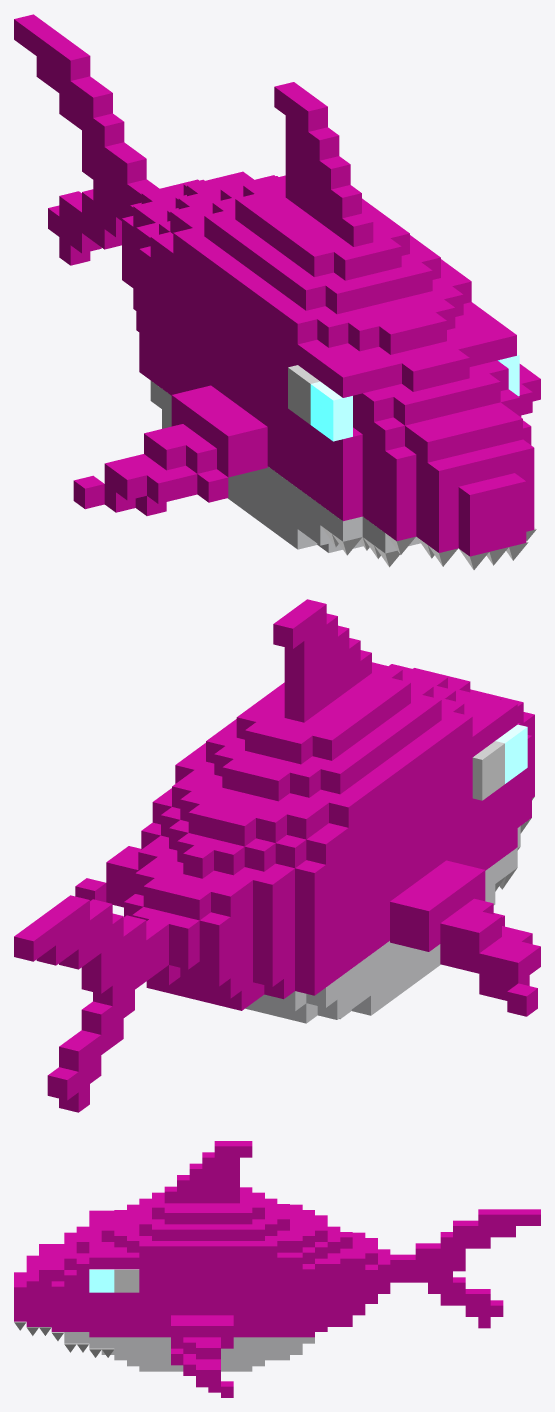
Rendered from shark3.glb.
3 views of the same model, one above another, from view 1: azimuth 30°, elevation 25°; view 2: azimuth 150°, elevation 25°; view 3: azimuth 270°, elevation 25° (orthographic). The views are drawn at different scales.
Visible parts, largest first — view 1: Cube.005; view 2: Cube.005; view 3: Cube.005.
Part boxes in pixels (x1,y1,x2,y2): Cube.005: (14, 14, 540, 569); Cube.005: (14, 599, 540, 1112); Cube.005: (14, 1141, 540, 1397).
Bounding box in the file's own units: 60.06 × 46.8 × 109.
